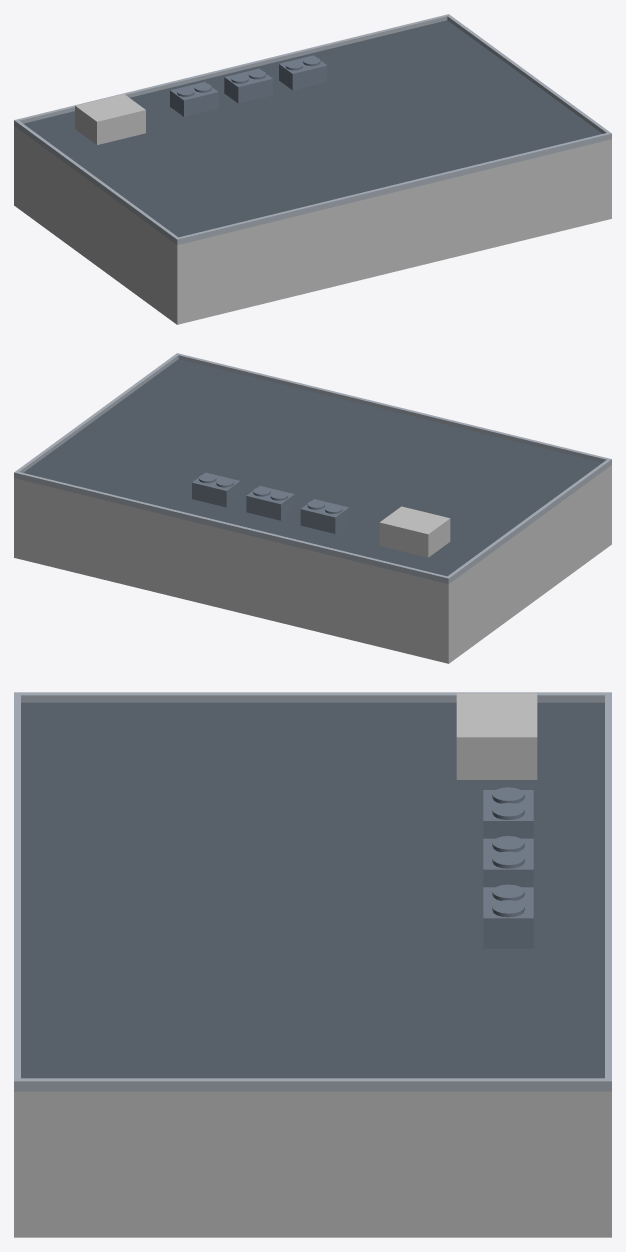
Rendered from industrial_hvac_facility.glb.
3 renders of one model, top to bottom at view 1: azimuth 30°, elevation 25°; view 2: azimuth 150°, elevation 25°; view 3: azimuth 270°, elevation 25°, orthographic. The views are drawn at different scales.
Parts seen in each view (by area): view 1: IndustrialHVACFacility; view 2: IndustrialHVACFacility; view 3: IndustrialHVACFacility.
Part boxes in pixels (<box>): IndustrialHVACFacility: <box>14,14,611,324</box>; IndustrialHVACFacility: <box>14,353,611,663</box>; IndustrialHVACFacility: <box>14,692,611,1237</box>.
Size of the model in its own units: 40 by 9.2 by 26.
